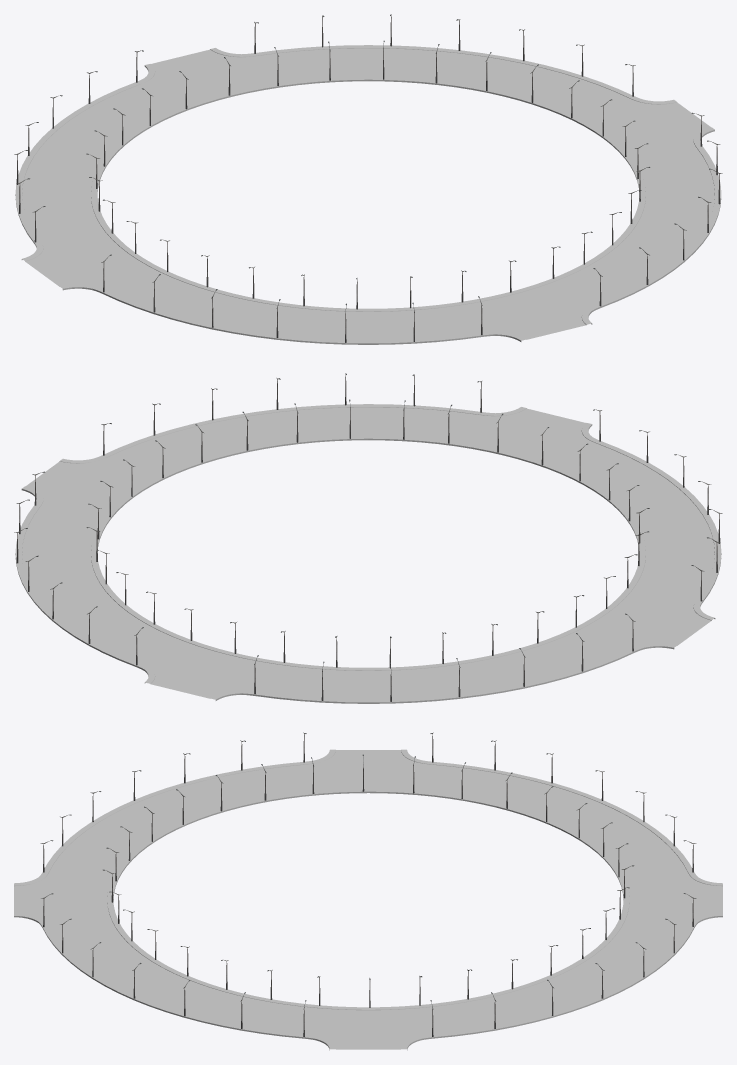
Rendered from Big_Road_ring.FBX.
3 views of the same model, one above another, from view 1: azimuth 30°, elevation 25°; view 2: azimuth 150°, elevation 25°; view 3: azimuth 270°, elevation 25° (orthographic). The views are drawn at different scales.
Parts seen in each view (by area): view 1: Big_Road_ring; view 2: Big_Road_ring; view 3: Big_Road_ring.
Boxes of the visible parts, box(x1,y1,x2,y2) form: Big_Road_ring: box(15, 40, 721, 344); Big_Road_ring: box(15, 399, 721, 703); Big_Road_ring: box(14, 749, 722, 1050).
Size of the model in its own units: 208 by 208 by 11.04.
